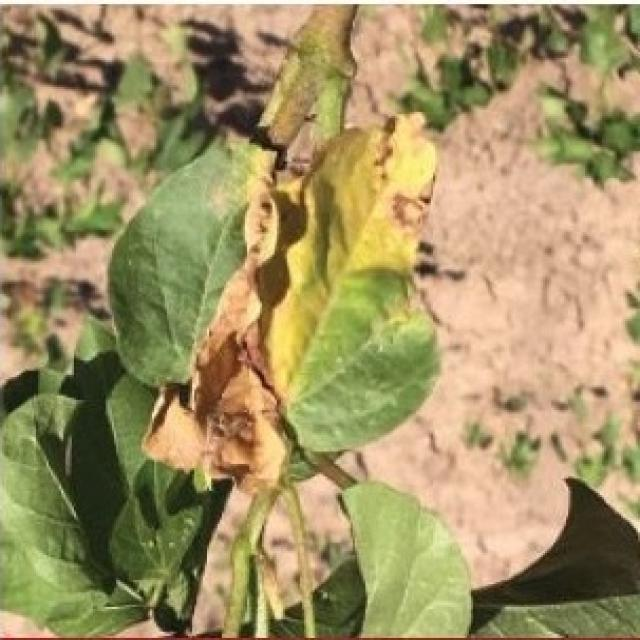Fusarium Wilt: (5, 12, 620, 638)
